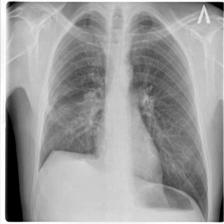tuberculosis: (33, 4, 217, 224)
